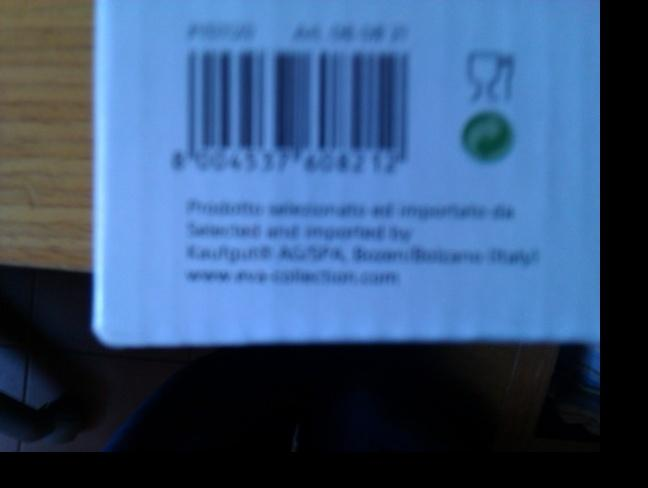Barcode: (155, 40, 432, 188)
